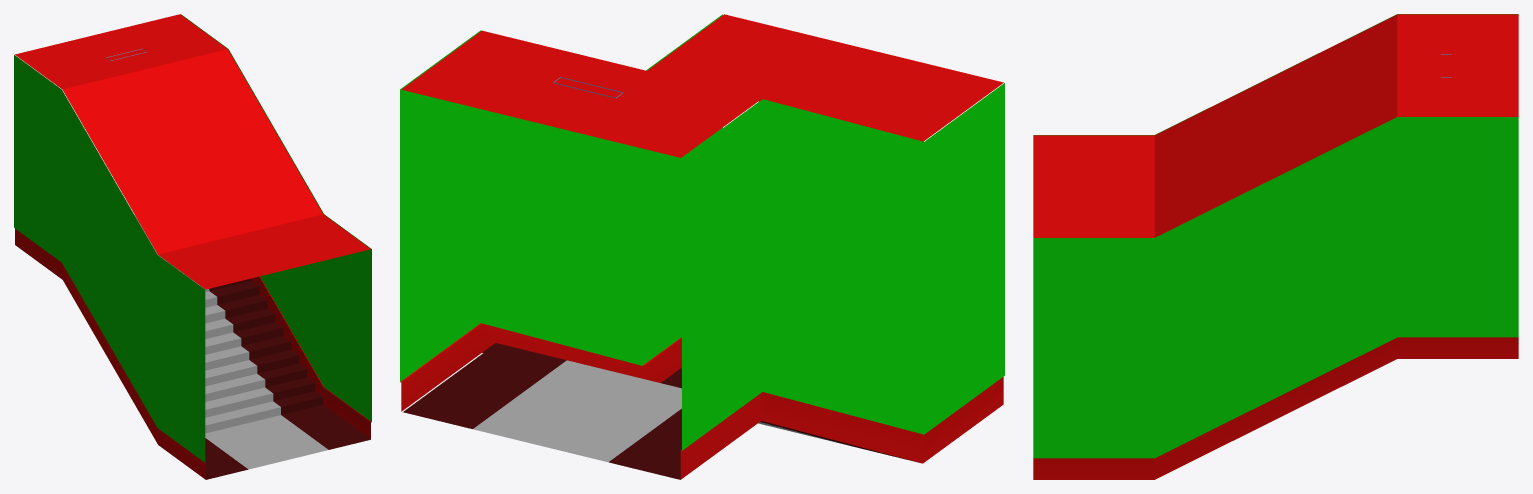
File: StairCase_1.fbx
3 views of the same model, side by side, from view 1: azimuth 30°, elevation 25°; view 2: azimuth 150°, elevation 25°; view 3: azimuth 270°, elevation 25° (orthographic). The views are drawn at different scales.
Visible parts, largest first — view 1: StairCase_1; view 2: StairCase_1; view 3: StairCase_1.
Part boxes in pixels (x1,y1,x2,y2): StairCase_1: (14,14,371,479); StairCase_1: (400,14,1004,479); StairCase_1: (1033,14,1518,479).
Size of the model in its own units: 2015 by 3306 by 4000.
